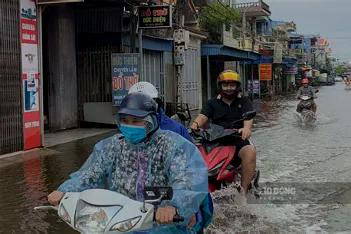ROAD_FLOODING: (175, 81, 351, 231)
